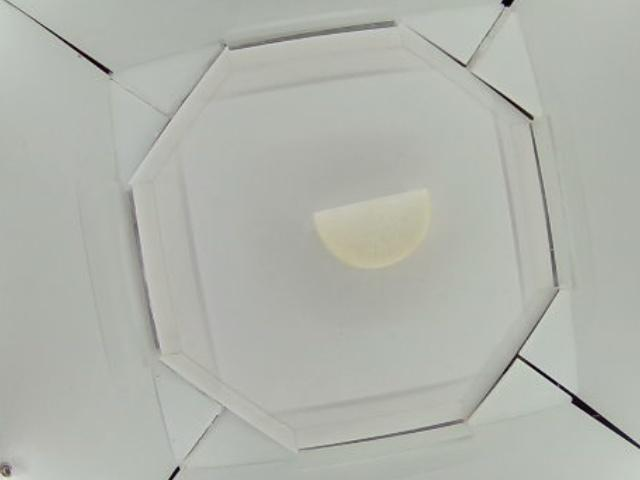Mooli: (315, 188, 434, 270)
